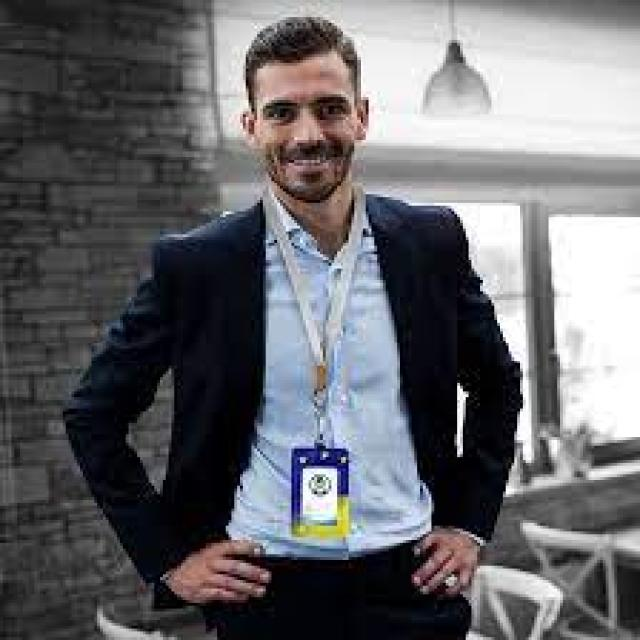id_card: (264, 200, 365, 540)
